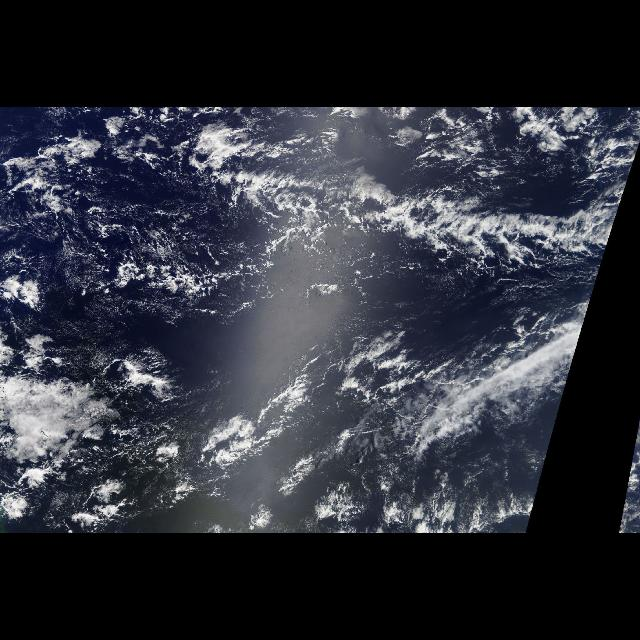Fish: (172, 138, 628, 280)
Gravel: (4, 111, 176, 376)
Sugar: (230, 164, 582, 268)
